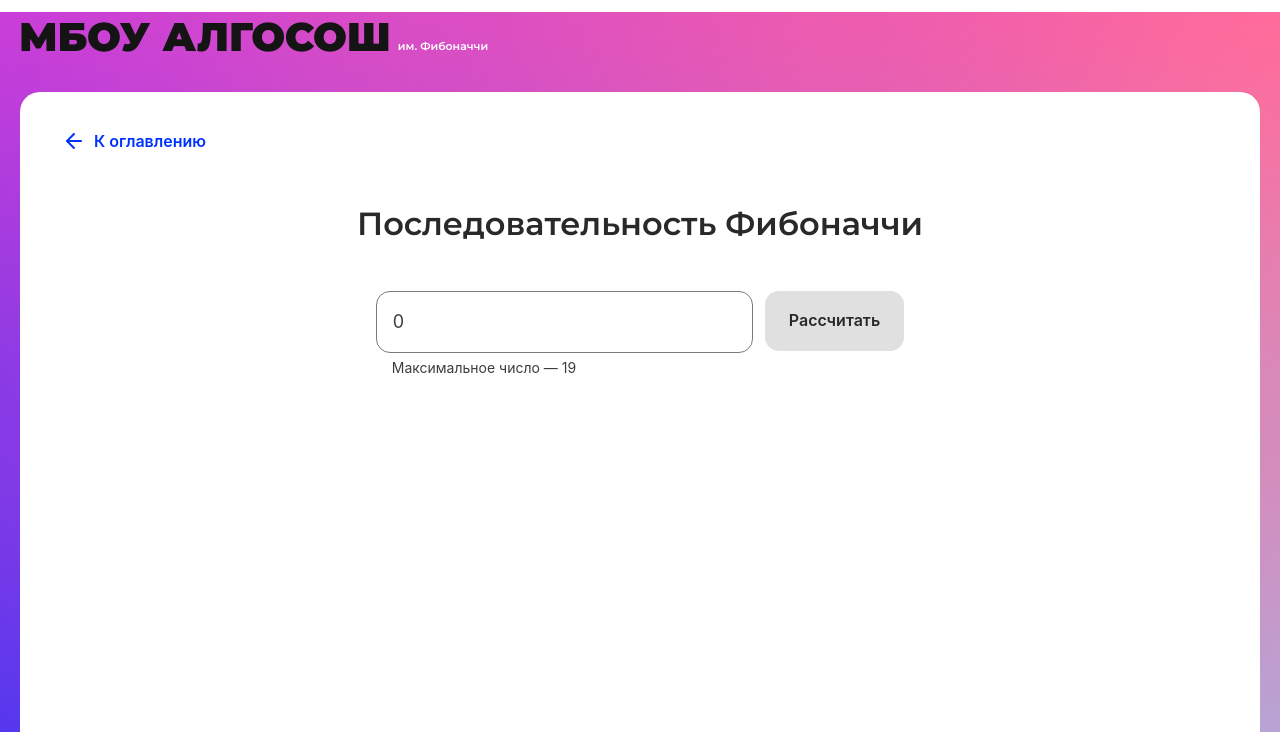
Test: Тестирование страницы 'Фибоначчи' › Проверка условия - при пустом поле ввода кнопка запуска действия неактивна
Expected: the button with test id "actionButton" is disabled, [765,291,904,351]
In the number field with test id "valueInput": [565, 322] box [376,291,753,353], type "1"
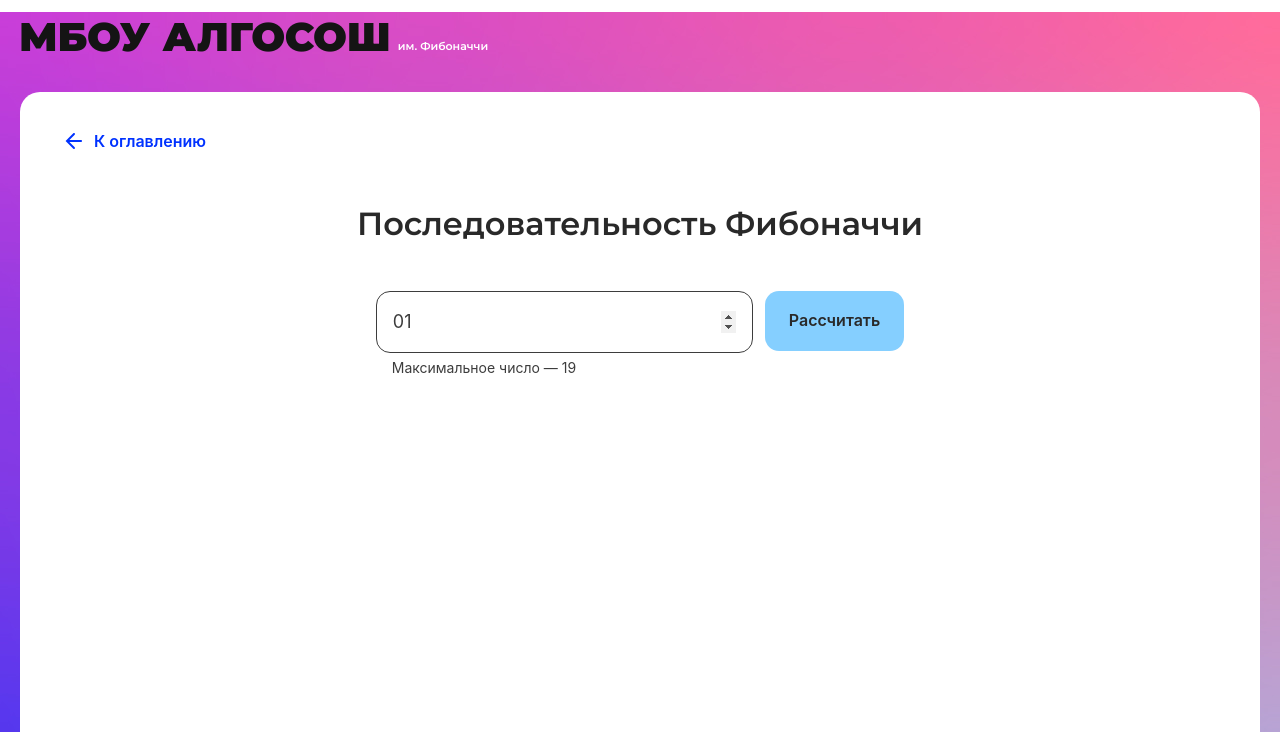
Expected: the element with test id "actionButton" is enabled
Clear the number field with test id "valueInput": [565, 322] box [376,291,753,353]
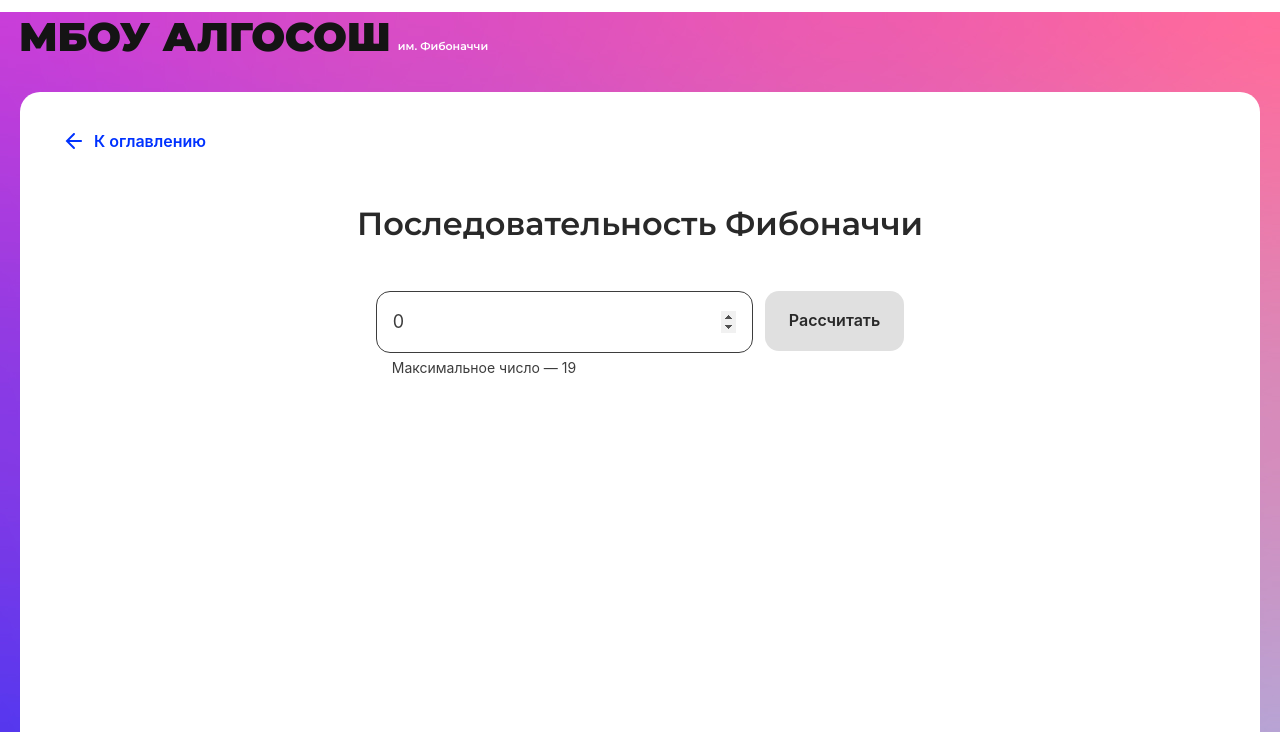
Expected: the button with test id "actionButton" is disabled, [765,291,904,351]
